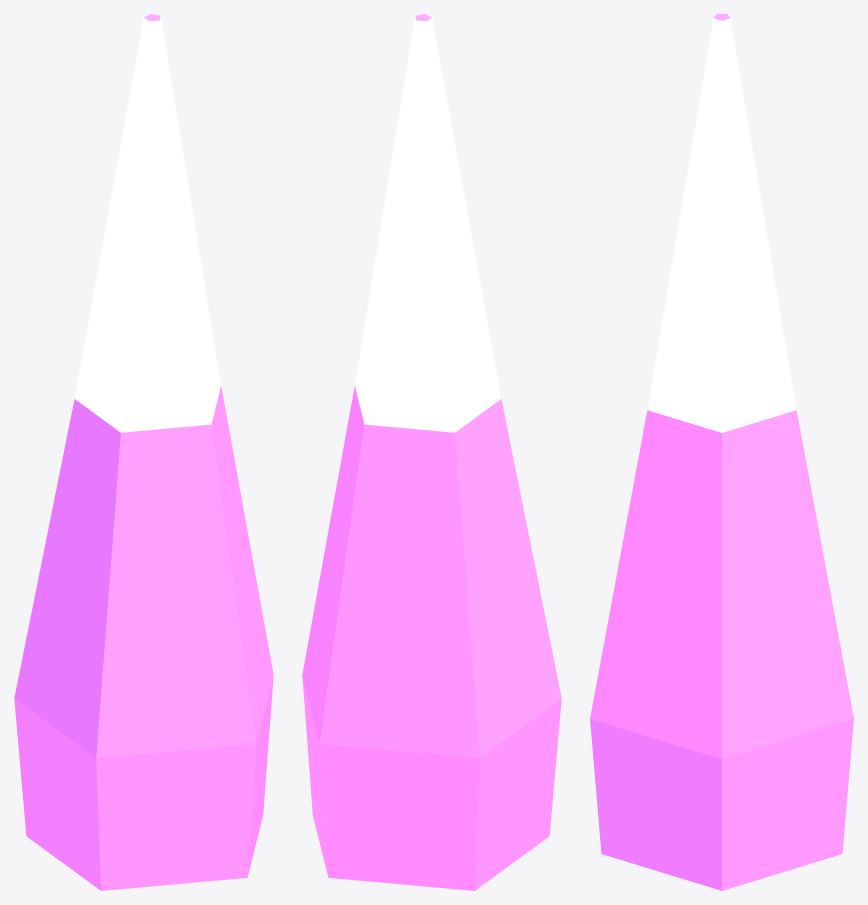
File: SM_VFX_Plume_LQ.glb
3 views of the same model, side by side, from view 1: azimuth 30°, elevation 25°; view 2: azimuth 150°, elevation 25°; view 3: azimuth 270°, elevation 25° (orthographic).
Visible parts, largest first — view 1: SM_VFX_Plume_LQ; view 2: SM_VFX_Plume_LQ; view 3: SM_VFX_Plume_LQ.
Part boxes in pixels (box(x1,y1,x2,y2)): SM_VFX_Plume_LQ: box(14, 14, 273, 890); SM_VFX_Plume_LQ: box(302, 14, 561, 890); SM_VFX_Plume_LQ: box(590, 14, 853, 890).
Size of the model in its own units: 0.8321 by 3 by 0.875.
Materials: 1 (1 with a texture image).
